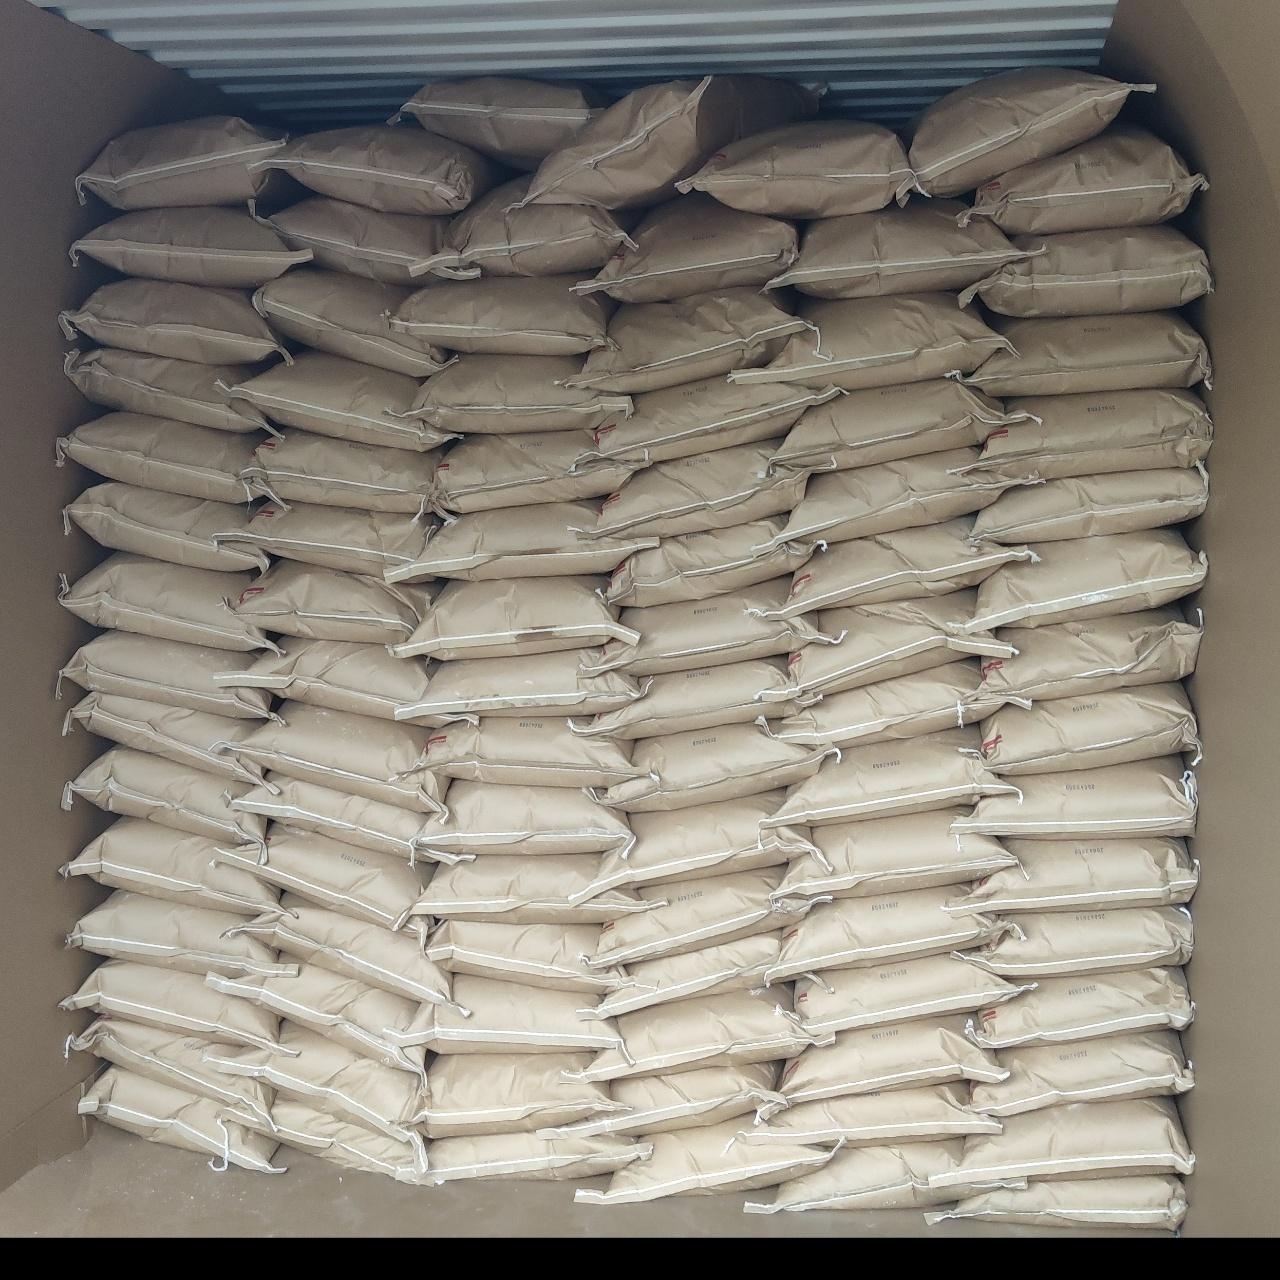sack: (522, 74, 822, 206), (904, 70, 1148, 198), (762, 515, 1039, 617), (216, 1024, 424, 1155), (734, 292, 1005, 390), (962, 124, 1204, 232), (765, 202, 1034, 297), (240, 896, 458, 1012), (962, 527, 1206, 629), (572, 288, 813, 390), (586, 792, 828, 894), (236, 700, 445, 813), (69, 1019, 277, 1133), (576, 196, 798, 302), (207, 960, 422, 1070), (594, 866, 830, 966), (790, 590, 1014, 694), (218, 824, 433, 932), (776, 377, 1024, 470), (588, 580, 838, 672), (764, 660, 1030, 745), (960, 226, 1210, 316), (584, 986, 826, 1078), (256, 124, 504, 215), (772, 728, 1012, 822), (680, 120, 910, 216), (968, 390, 1212, 481), (80, 1065, 280, 1175), (592, 374, 838, 462), (782, 448, 1012, 542), (580, 1116, 830, 1201), (62, 816, 278, 914), (254, 266, 450, 374), (232, 350, 454, 445), (229, 774, 468, 862), (388, 502, 654, 580), (983, 602, 1198, 700), (62, 960, 290, 1051), (594, 724, 836, 810), (745, 1141, 1024, 1214), (960, 312, 1210, 394), (776, 808, 1012, 894), (972, 682, 1198, 772), (586, 442, 806, 535), (778, 886, 1008, 974), (60, 552, 274, 646), (392, 576, 636, 658), (252, 196, 478, 284), (954, 756, 1194, 838), (64, 745, 264, 844), (64, 343, 275, 436), (60, 629, 275, 720), (576, 658, 813, 738), (66, 890, 292, 974), (76, 116, 286, 206), (56, 411, 266, 502), (966, 1032, 1190, 1116), (433, 181, 629, 275), (72, 207, 308, 286), (956, 1098, 1190, 1178), (60, 278, 286, 360), (606, 518, 821, 604), (782, 1016, 1002, 1099), (66, 482, 268, 572), (222, 1099, 435, 1185), (792, 954, 1028, 1032), (66, 692, 263, 782), (216, 638, 434, 719), (396, 648, 642, 720), (224, 560, 434, 644), (390, 275, 612, 354), (966, 968, 1190, 1046), (396, 974, 620, 1051), (954, 838, 1196, 910), (976, 468, 1206, 542), (408, 354, 629, 430), (436, 430, 644, 510), (410, 855, 652, 922), (240, 428, 438, 510), (392, 79, 592, 159), (960, 906, 1190, 976), (588, 932, 782, 1014), (422, 716, 646, 787), (424, 779, 632, 855), (229, 502, 438, 576), (418, 1054, 612, 1133), (930, 1176, 1186, 1232), (574, 1064, 782, 1133), (754, 1085, 998, 1144), (425, 920, 628, 990), (430, 1126, 646, 1180)
